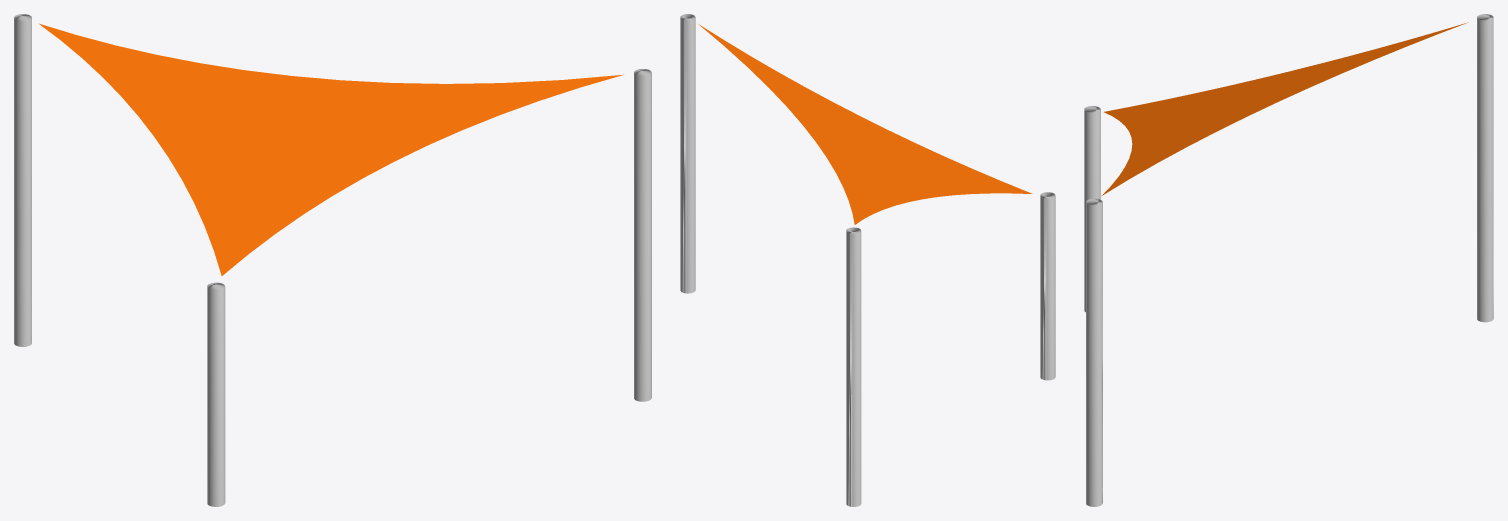
The model's file is MPSD2.obj.
3 renders of one model, left to right at view 1: azimuth 30°, elevation 25°; view 2: azimuth 150°, elevation 25°; view 3: azimuth 270°, elevation 25°, orthographic. The views are drawn at different scales.
Visible parts, largest first — view 1: membrane_bottom, membrane_top, pole_1, pole_2, pole_3; view 2: membrane_bottom, pole_1, pole_2, membrane_top, pole_3; view 3: membrane_bottom, pole_1, pole_2, membrane_top, pole_3.
Boxes of the visible parts, <box> form: membrane_bottom: <box>38,23,623,275</box>; membrane_top: <box>40,24,617,272</box>; pole_1: <box>14,14,31,346</box>; pole_2: <box>634,69,651,401</box>; pole_3: <box>207,282,225,506</box>; membrane_bottom: <box>698,24,1032,224</box>; pole_1: <box>846,227,861,506</box>; pole_2: <box>680,14,695,293</box>; membrane_top: <box>701,26,1025,224</box>; pole_3: <box>1040,192,1055,380</box>; membrane_bottom: <box>1102,22,1468,195</box>; pole_1: <box>1477,14,1493,322</box>; pole_2: <box>1086,198,1102,506</box>; membrane_top: <box>1104,25,1458,194</box>; pole_3: <box>1084,106,1100,312</box>.
Bounding box in the file's own units: 14.04 × 9.84 × 12.13.
